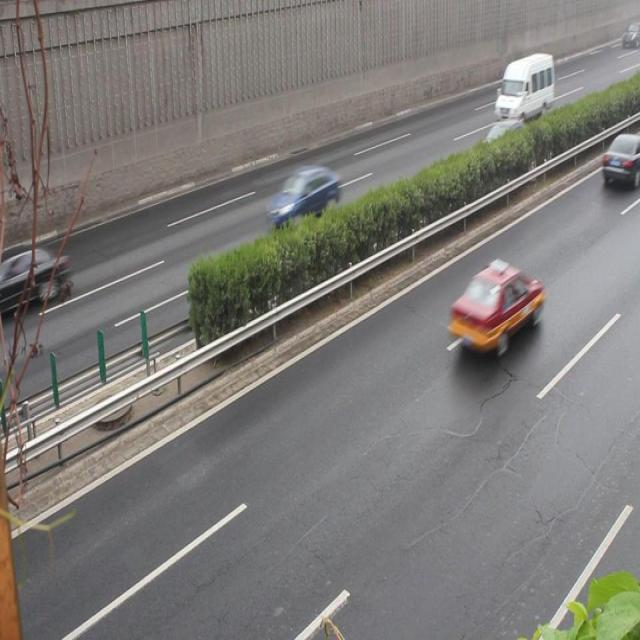car: (445, 260, 543, 356), (266, 164, 341, 229), (1, 242, 67, 310), (472, 120, 527, 175), (600, 133, 640, 187)
truck: (493, 54, 554, 121)
